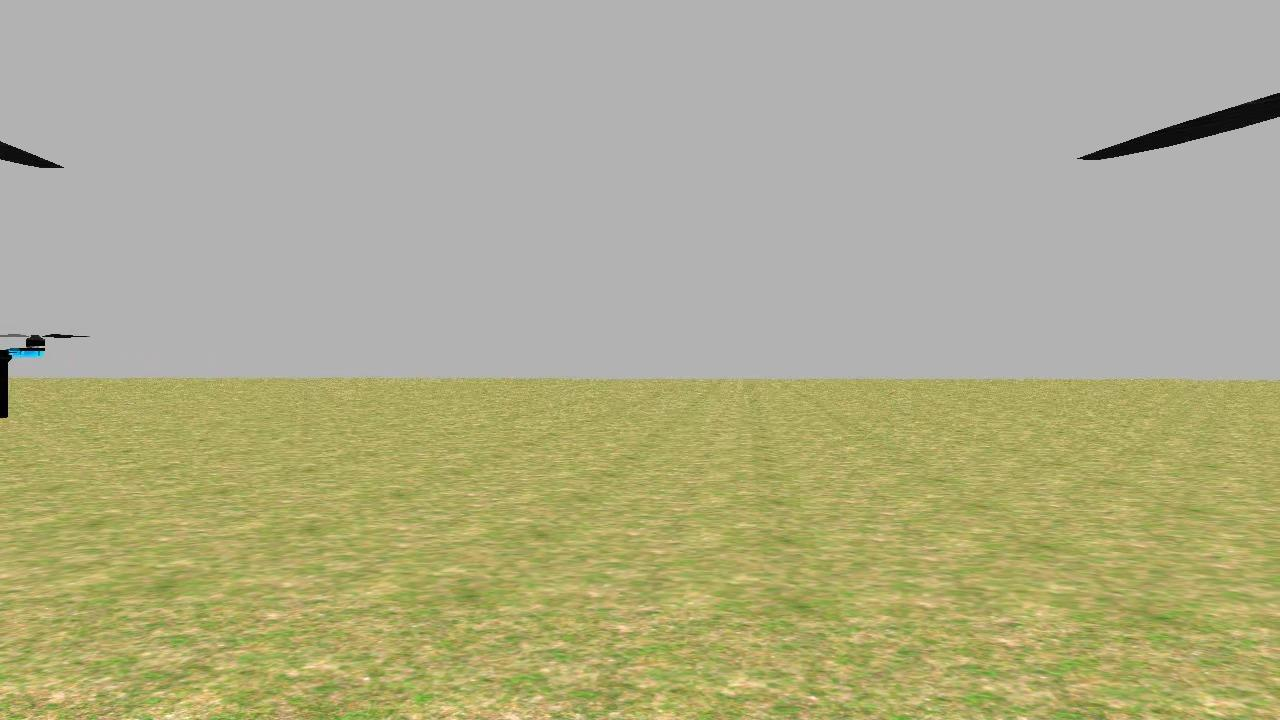UAV: (0, 308, 55, 435)
